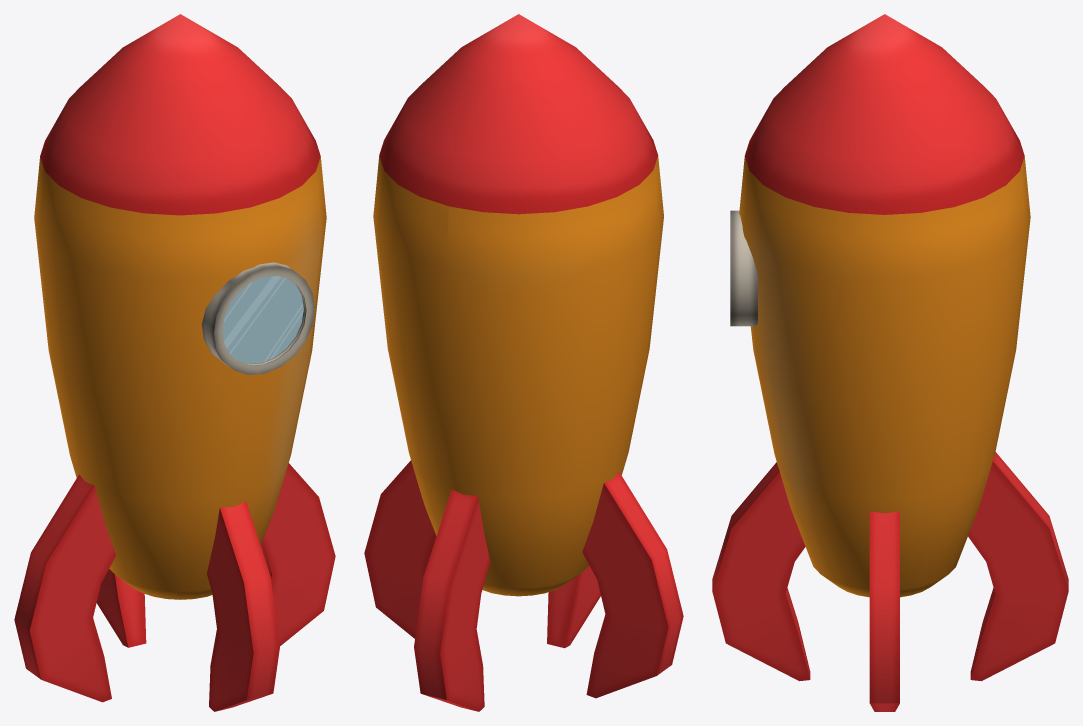
Rendered from Raket.fbx.
3 renders of one model, left to right at view 1: azimuth 30°, elevation 25°; view 2: azimuth 150°, elevation 25°; view 3: azimuth 270°, elevation 25°, orthographic.
Parts seen in each view (by area): view 1: Poot_9; view 2: Poot_9; view 3: Poot_9.
Part boxes in pixels (<box>): Poot_9: <box>14,14,335,711</box>; Poot_9: <box>364,14,683,711</box>; Poot_9: <box>712,14,1068,711</box>.
Size of the model in its own units: 7.55 by 15.67 by 7.63.
1 material, 1 textured.
